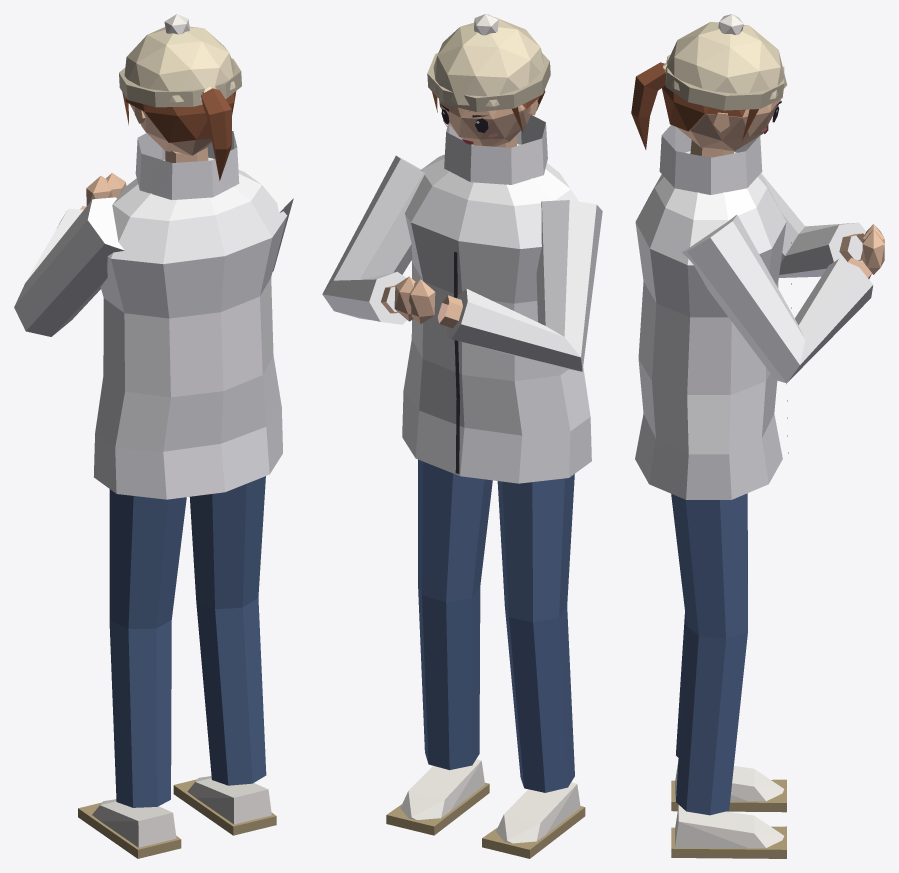
The model's file is spectator_j.glb.
The picture shows the model from 3 angles, left to right: view 1: azimuth 30°, elevation 25°; view 2: azimuth 150°, elevation 25°; view 3: azimuth 270°, elevation 25°; orthographic projection.
Parts seen in each view (by area): view 1: spectator_j; view 2: spectator_j; view 3: spectator_j.
Part boxes in pixels (box(x1,y1,x2,y2)): spectator_j: box(14, 14, 293, 858); spectator_j: box(322, 14, 602, 858); spectator_j: box(631, 14, 884, 858).
Size of the model in its own units: 0.5954 by 1.78 by 0.5039.
